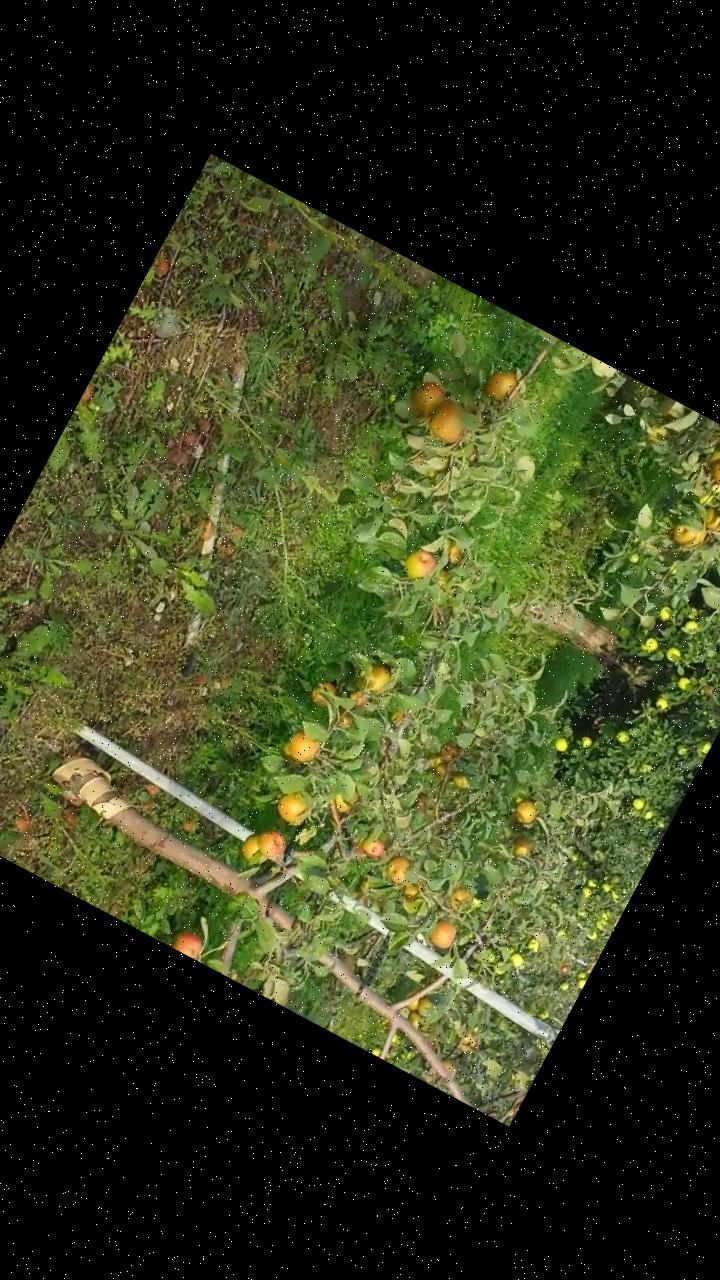Apple: (425, 394, 476, 447), (404, 374, 452, 427), (282, 724, 326, 768), (480, 362, 522, 408), (399, 542, 442, 586), (274, 788, 316, 831), (670, 514, 712, 554), (240, 828, 280, 868), (254, 826, 292, 864), (360, 661, 397, 698), (428, 918, 462, 954), (308, 676, 342, 712), (172, 928, 208, 961), (383, 852, 415, 886), (330, 784, 362, 818), (454, 1028, 486, 1060), (278, 741, 310, 772), (512, 797, 542, 830), (403, 1006, 435, 1036), (440, 538, 470, 570), (697, 502, 719, 543), (344, 685, 374, 714), (401, 878, 427, 906), (400, 985, 425, 1014), (511, 834, 538, 860), (439, 740, 464, 768), (363, 836, 389, 862), (450, 885, 475, 911), (705, 449, 719, 494), (436, 1056, 462, 1079), (449, 769, 475, 792), (414, 995, 437, 1018), (703, 442, 719, 474), (352, 840, 374, 862), (335, 711, 357, 733), (433, 758, 454, 781)
